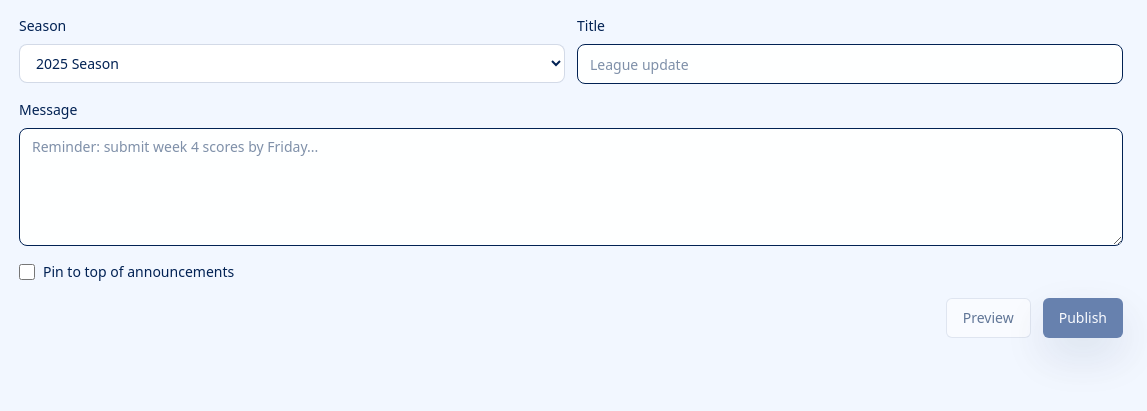
Test: AnnouncementComposer › publishes announcements via the admin API
The image size is (1147, 411).
Type "Weekly recap" into the field labelled "Title". click: (850, 64)
box: [577, 44, 1123, 84]
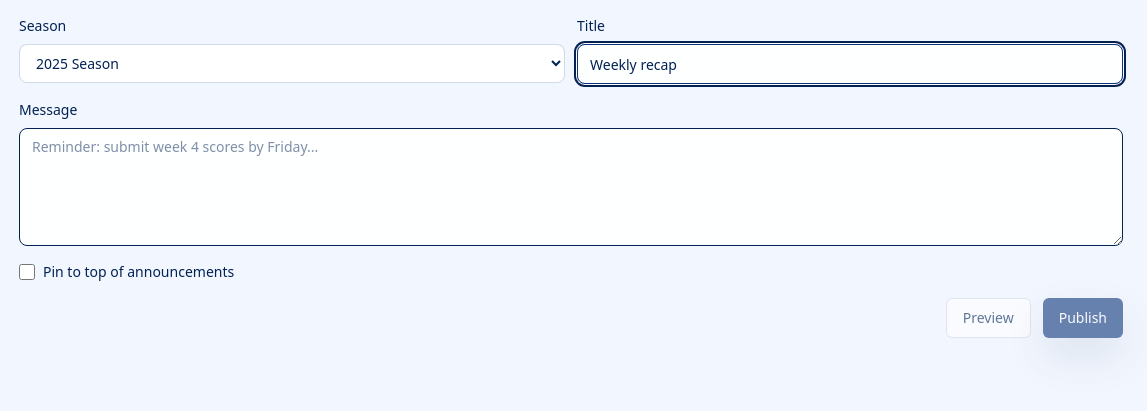
Type "Great job everyone!" into the text box with placeholder "Reminder: submit week 4 scores by Friday...". click: (571, 187)
box: [19, 128, 1123, 246]
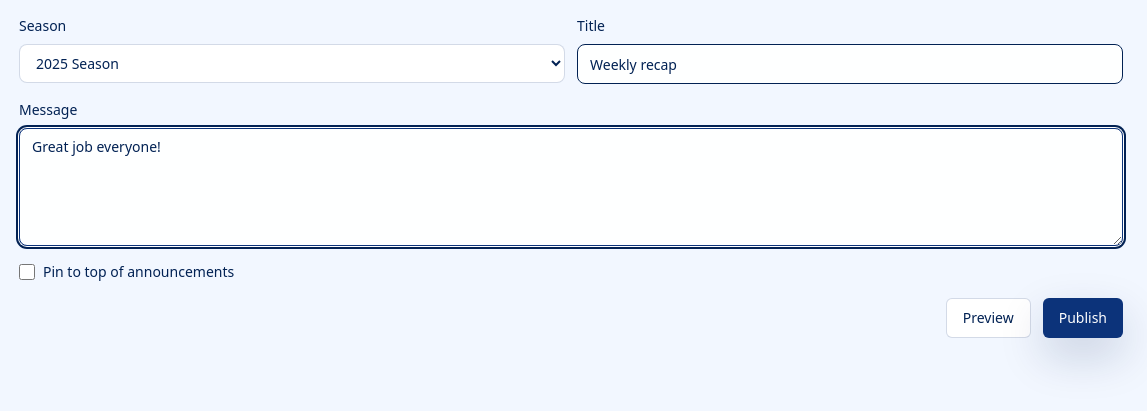
Click the button "Publish". click: (1083, 318)
box: [1043, 298, 1123, 338]
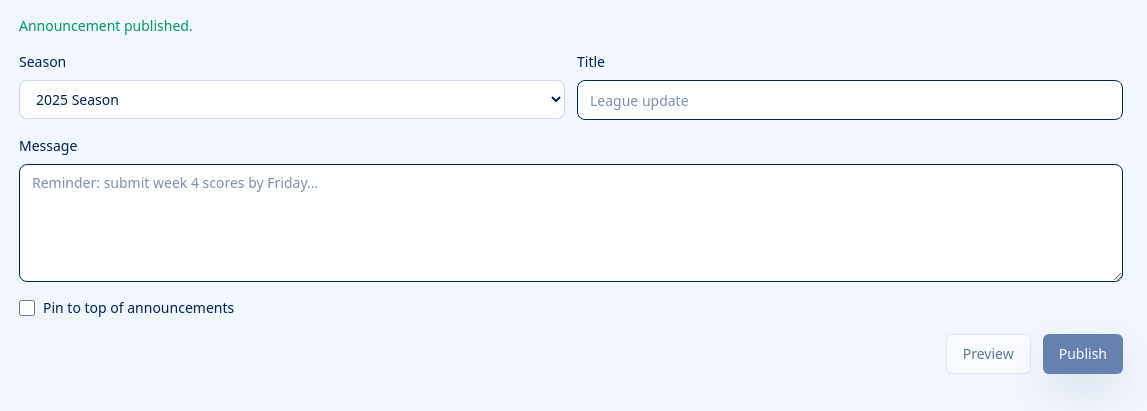
Now the text "Announcement published." is shown, box [19, 16, 193, 35]
